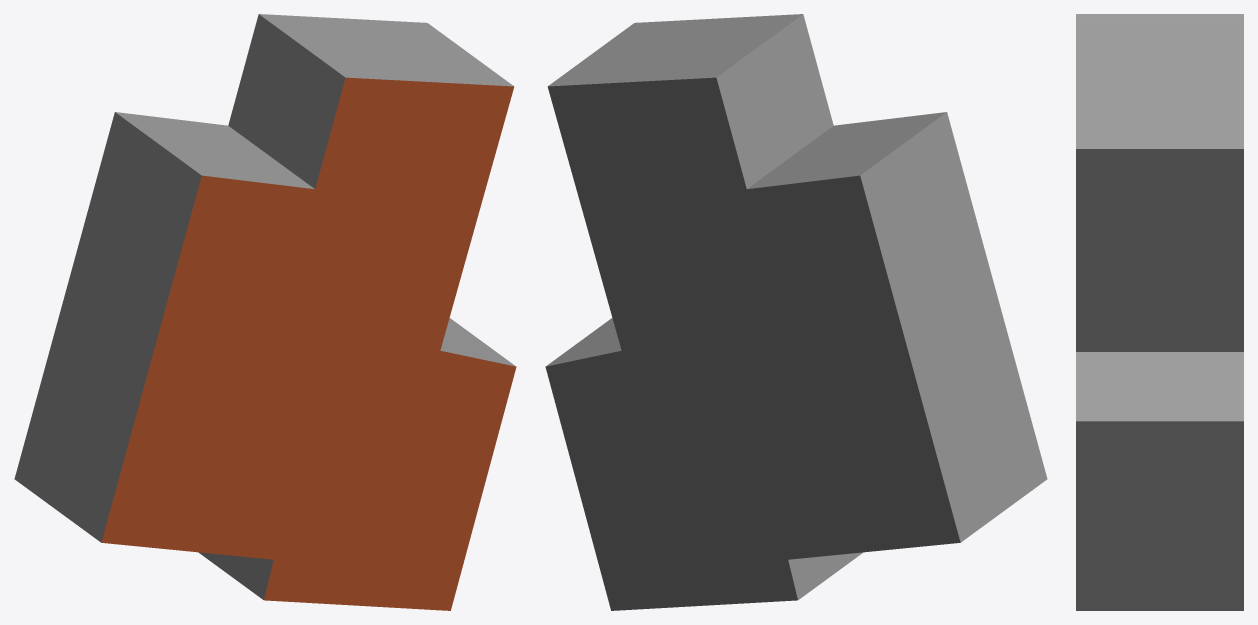
The model's file is construction_4423_assumed_A_Casa_h6m.obj.
The picture shows the model from 3 angles, left to right: view 1: azimuth 30°, elevation 25°; view 2: azimuth 150°, elevation 25°; view 3: azimuth 270°, elevation 25°; orthographic projection. The views are drawn at different scales.
Visible parts, largest first — view 1: construction_4423_assumed_A_Casa; view 2: construction_4423_assumed_A_Casa; view 3: construction_4423_assumed_A_Casa.
Boxes of the visible parts, x1=… form: construction_4423_assumed_A_Casa: x1=14, y1=14, x2=516, y2=610; construction_4423_assumed_A_Casa: x1=545, y1=14, x2=1047, y2=610; construction_4423_assumed_A_Casa: x1=1076, y1=14, x2=1243, y2=610.
Size of the model in its own units: 16.55 by 21.3 by 6.
